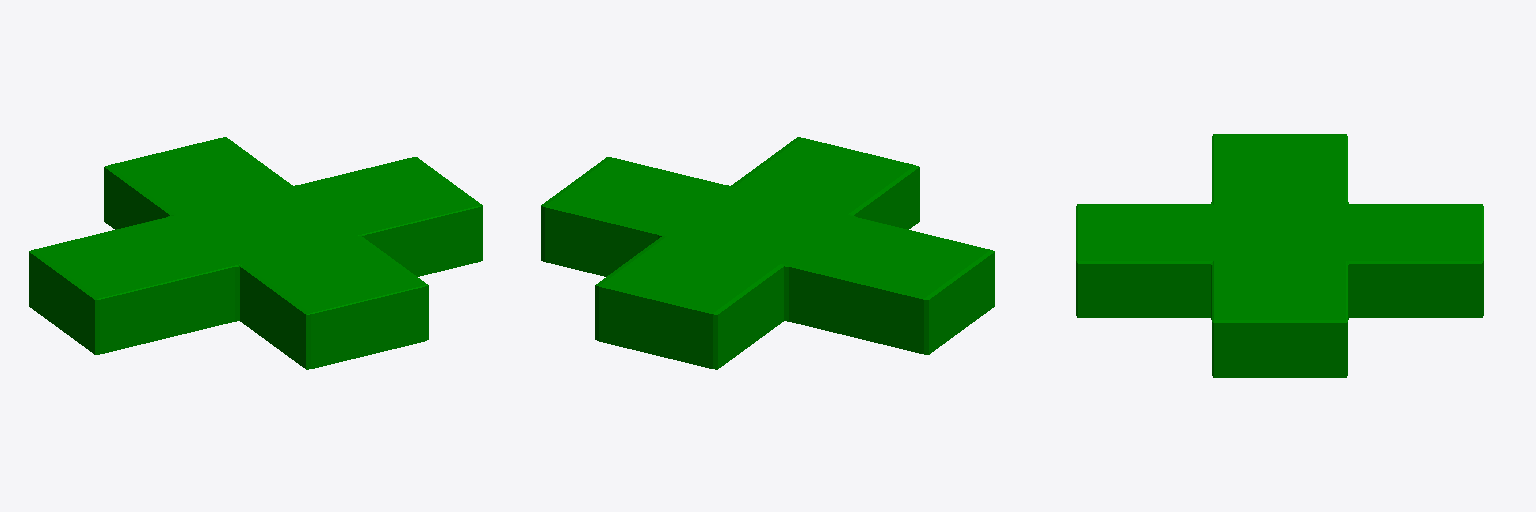
Rendered from greenCross.obj.
3 views of the same model, side by side, from view 1: azimuth 30°, elevation 25°; view 2: azimuth 150°, elevation 25°; view 3: azimuth 270°, elevation 25° (orthographic).
Visible parts, largest first — view 1: Cube_Cube.002; view 2: Cube_Cube.002; view 3: Cube_Cube.002.
Part boxes in pixels (x1,y1,x2,y2): Cube_Cube.002: (29,137,482,369); Cube_Cube.002: (541,137,994,369); Cube_Cube.002: (1076,134,1483,377).
Size of the model in its own units: 6.6 by 0.913 by 6.